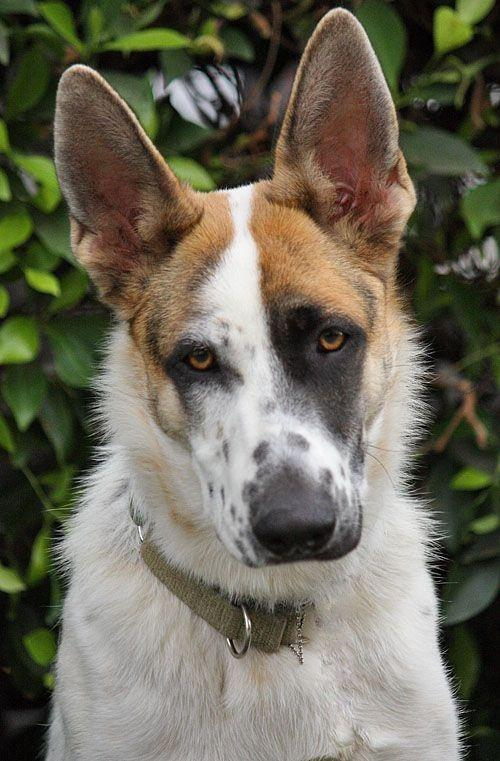adult_dog: (45, 6, 464, 761)
